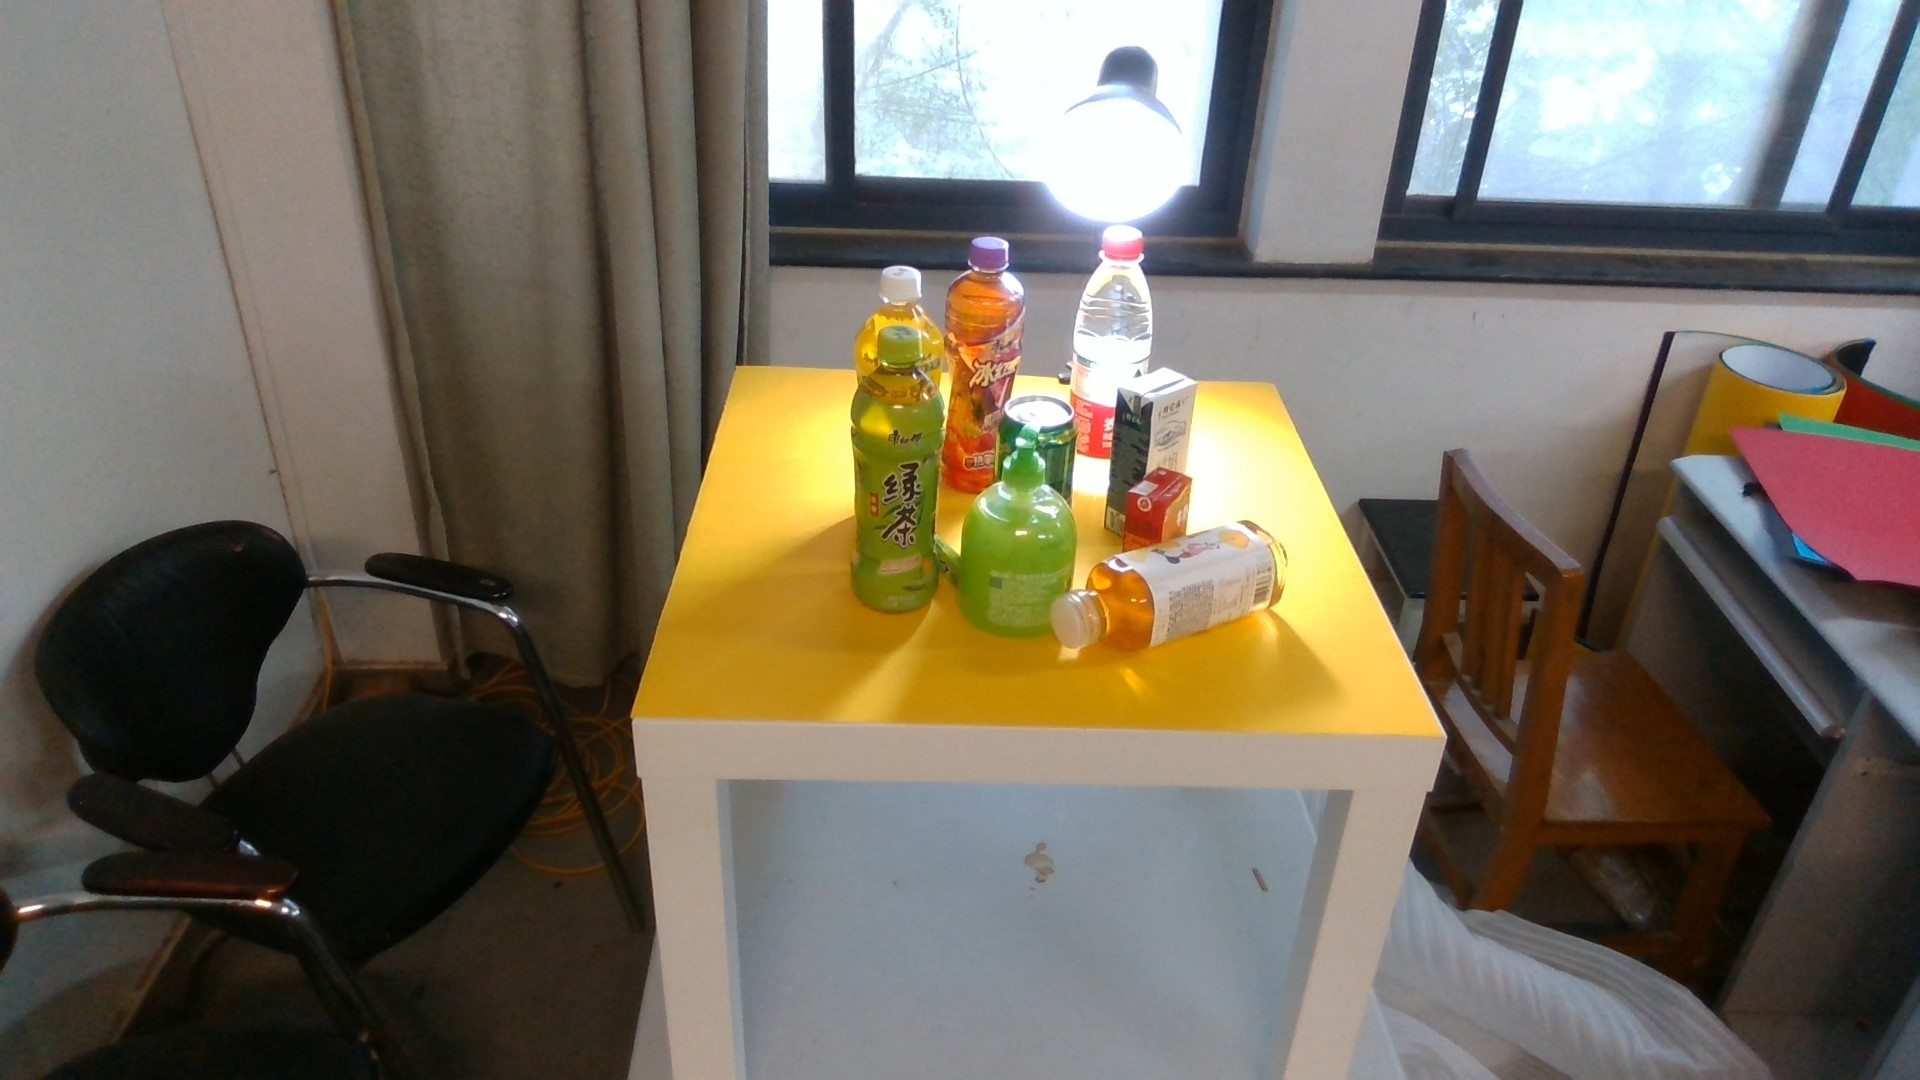BB010: (1116, 367, 1195, 469)
BB012: (1127, 469, 1189, 537)
ZA002: (963, 496, 1058, 638)
ZC001: (1040, 392, 1075, 487)
ZC009: (947, 233, 1026, 404)
ZC010: (852, 324, 944, 613)
ZC011: (865, 264, 932, 328)
ZC012: (1079, 538, 1288, 655)
ZC014: (1076, 227, 1116, 492)
